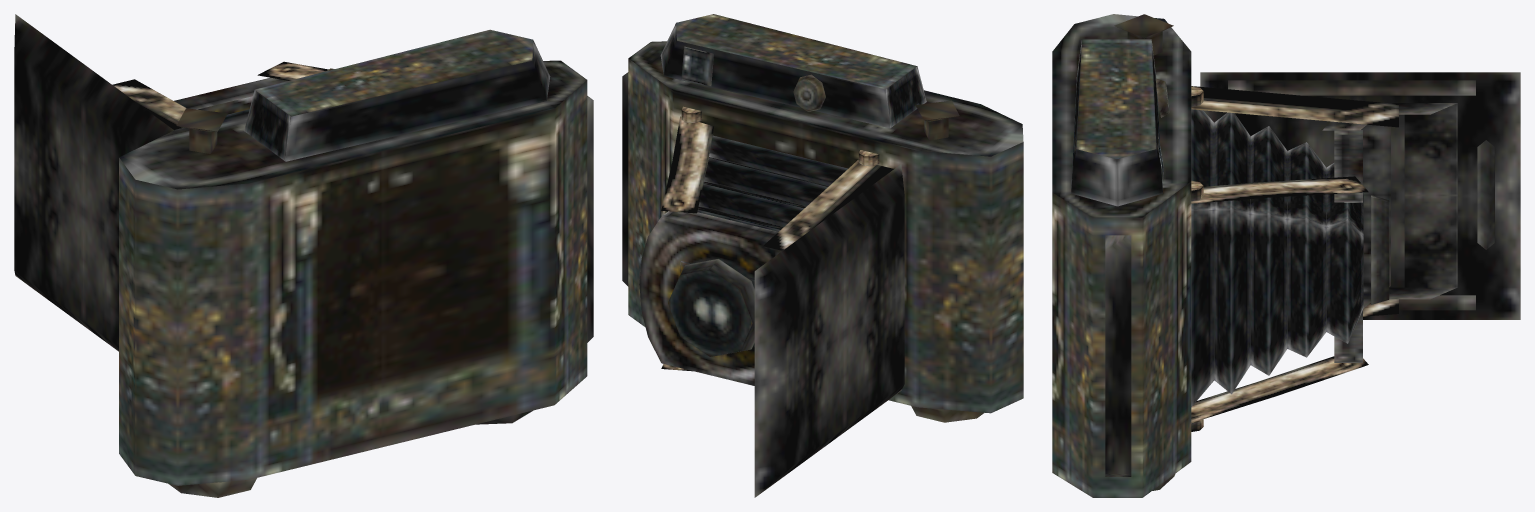
Rendered from ps2_save-icons_fatal-frame-3.glb.
3 renders of one model, left to right at view 1: azimuth 30°, elevation 25°; view 2: azimuth 150°, elevation 25°; view 3: azimuth 270°, elevation 25°, orthographic. The views are drawn at different scales.
Visible parts, largest first — view 1: zero-b-game.ico; view 2: zero-b-game.ico; view 3: zero-b-game.ico.
Boxes of the visible parts, left/top/right/bottom form: zero-b-game.ico: left=14, top=14, right=593, bottom=497; zero-b-game.ico: left=622, top=14, right=1023, bottom=497; zero-b-game.ico: left=1052, top=14, right=1520, bottom=497.
Bounding box in the file's own units: 4.61 × 3.5 × 4.35.
Materials: 1 (1 with a texture image).
